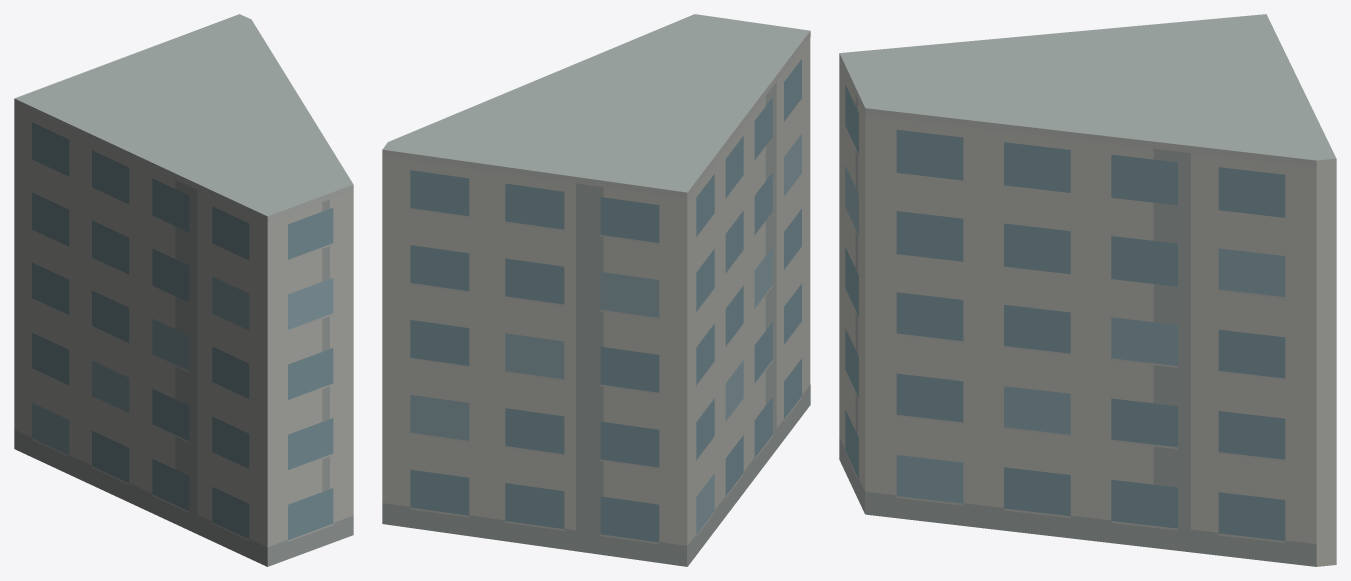
The model's file is survey-upis-32801041.glb.
3 views of the same model, side by side, from view 1: azimuth 30°, elevation 25°; view 2: azimuth 150°, elevation 25°; view 3: azimuth 270°, elevation 25° (orthographic). The views are drawn at different scales.
Visible parts, largest first — view 1: survey-upis-32801041.tmp; view 2: survey-upis-32801041.tmp; view 3: survey-upis-32801041.tmp.
Part boxes in pixels (left/top/right/bottom): survey-upis-32801041.tmp: left=14, top=14, right=353, bottom=566; survey-upis-32801041.tmp: left=382, top=14, right=810, bottom=566; survey-upis-32801041.tmp: left=839, top=14, right=1336, bottom=566.
Size of the model in its own units: 10.75 by 13.9 by 15.42.
